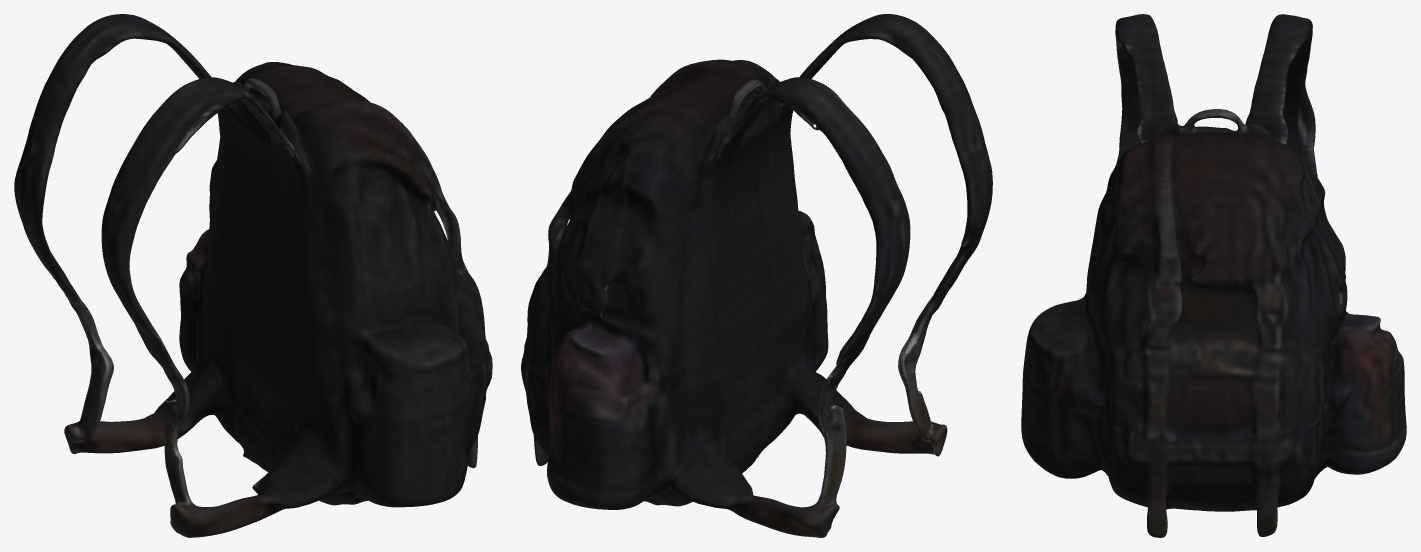
File: Backpack.glb
3 renders of one model, left to right at view 1: azimuth 30°, elevation 25°; view 2: azimuth 150°, elevation 25°; view 3: azimuth 270°, elevation 25°, orthographic. The views are drawn at different scales.
Visible parts, largest first — view 1: world; view 2: world; view 3: world.
Boxes of the visible parts, x1,y1,x2,y2 form: world: (14,14,492,537); world: (521,14,992,537); world: (1021,14,1406,537).
Bounding box in the file's own units: 0.4253 × 0.4934 × 0.4202.
1 material, 1 textured.
